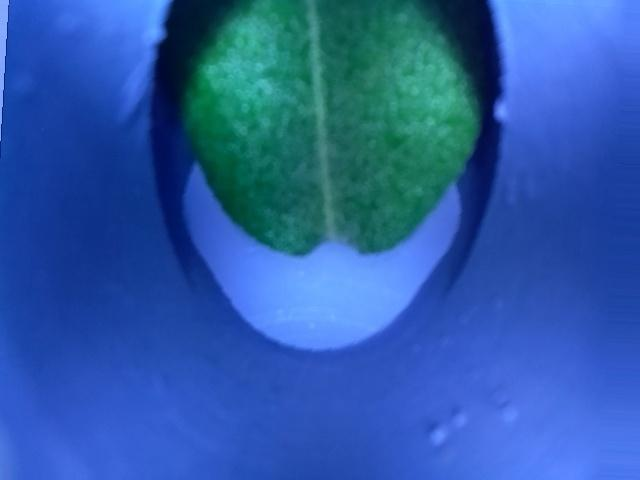feuille: (139, 1, 509, 277)
